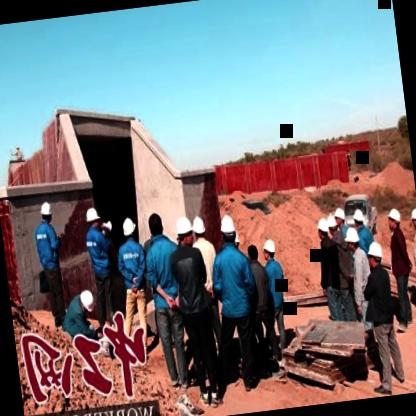head: (146, 208, 166, 240), (245, 241, 260, 266)
helmet: (172, 212, 196, 248), (215, 212, 238, 247), (363, 238, 386, 271), (188, 214, 208, 246), (81, 204, 102, 233), (384, 205, 404, 234), (76, 286, 96, 315), (120, 216, 138, 246), (324, 212, 342, 242), (259, 235, 277, 264), (342, 223, 360, 252), (36, 198, 54, 225), (350, 204, 366, 232), (314, 216, 330, 240), (332, 206, 348, 230), (408, 201, 416, 230)
